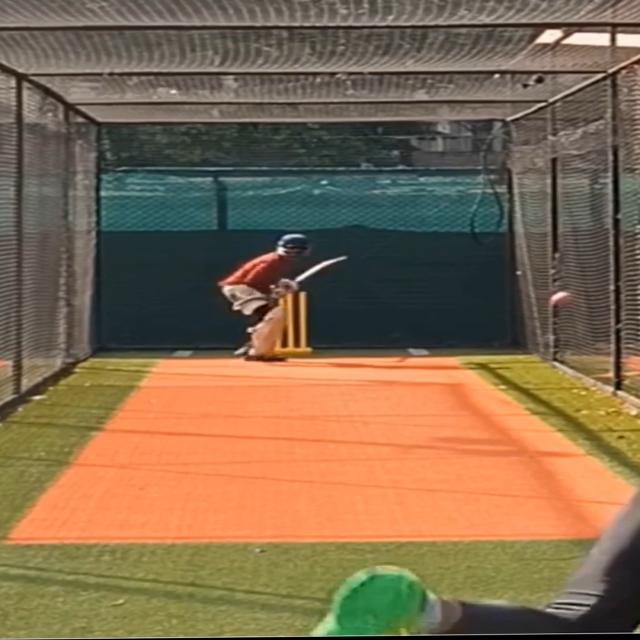ball: (547, 289, 580, 310)
stump: (275, 290, 312, 355)
